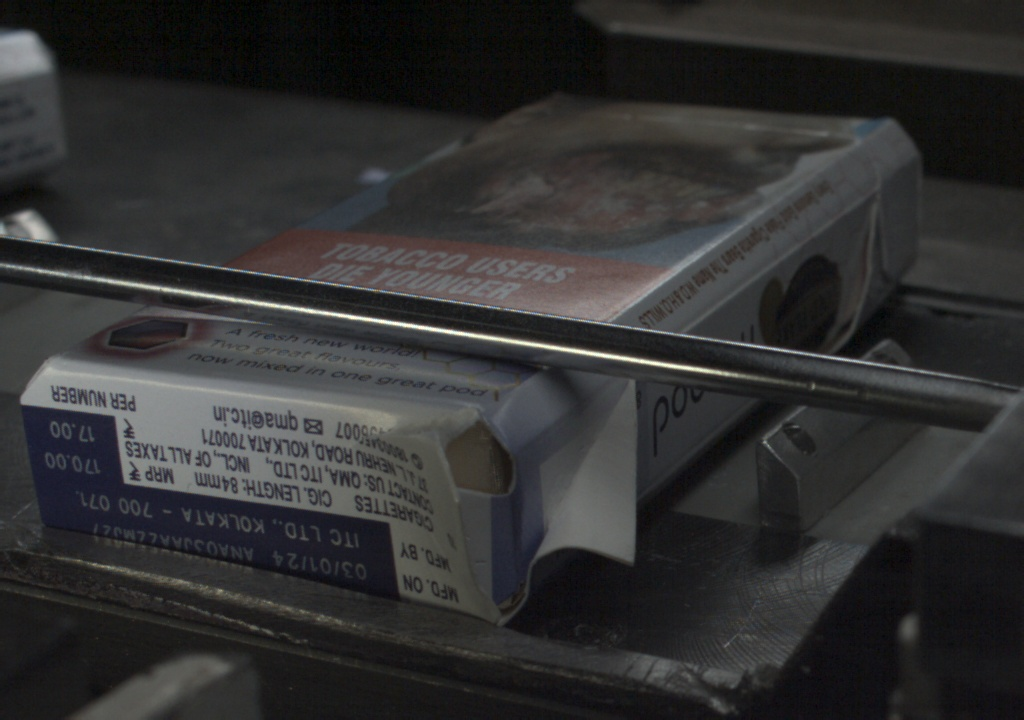g_label: (35, 483, 395, 600)
g_lmiter: (774, 192, 873, 265), (679, 265, 774, 332)
ng_bottom: (367, 411, 514, 627)
ng_lmiter: (512, 377, 639, 566)
ng_miter: (874, 150, 926, 285)
price: (31, 413, 121, 481)
